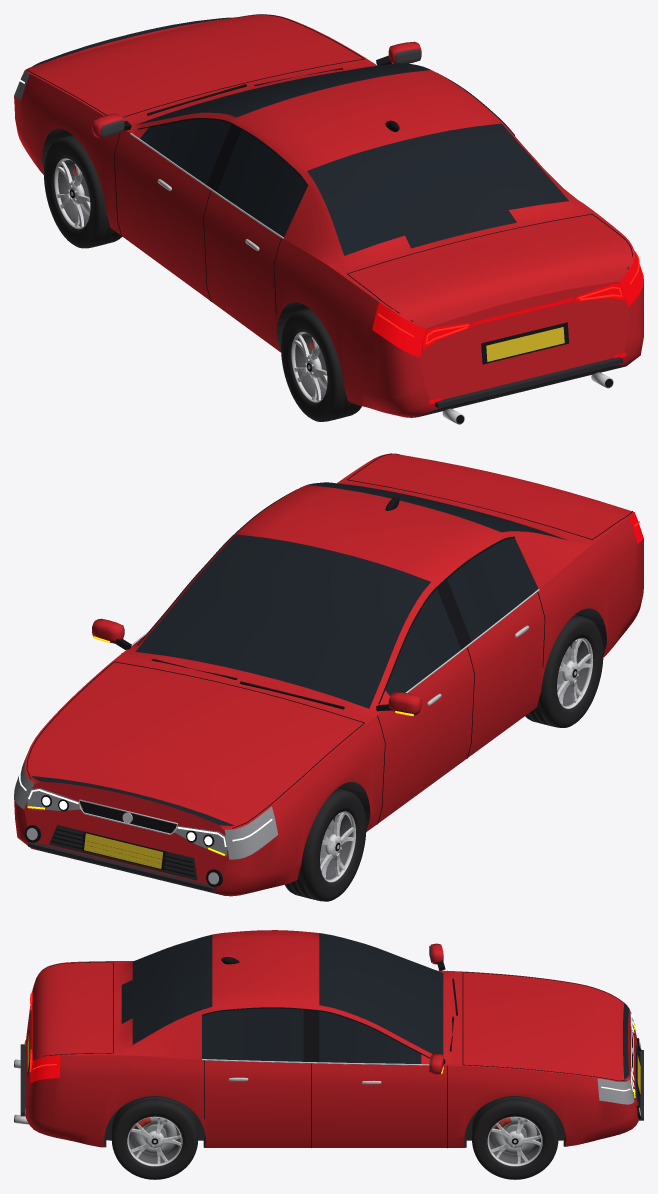
The model's file is car.glb.
3 views of the same model, one above another, from view 1: azimuth 30°, elevation 25°; view 2: azimuth 150°, elevation 25°; view 3: azimuth 270°, elevation 25° (orthographic). The views are drawn at different scales.
Visible parts, largest first — view 1: body, trim, wheel_rr, wheel_fr, decals; view 2: body, trim, wheel_fr, wheel_rr, decals; view 3: body, wheel_fl, wheel_rl, trim.
Part boxes in pixels (bbox=[...]): body: bbox=[14, 14, 643, 417]; trim: bbox=[19, 14, 639, 424]; wheel_rr: bbox=[281, 308, 361, 421]; wheel_fr: bbox=[44, 135, 121, 248]; decals: bbox=[486, 327, 564, 361]; body: bbox=[14, 453, 643, 896]; trim: bbox=[19, 453, 639, 891]; wheel_fr: bbox=[285, 788, 366, 901]; wheel_rr: bbox=[525, 615, 603, 727]; decals: bbox=[84, 833, 162, 868]; body: bbox=[25, 930, 638, 1147]; wheel_fl: bbox=[472, 1096, 558, 1179]; wheel_rl: bbox=[111, 1096, 198, 1179]; trim: bbox=[14, 943, 643, 1148].
Size of the model in its own units: 2.19 by 1.47 by 4.83.
